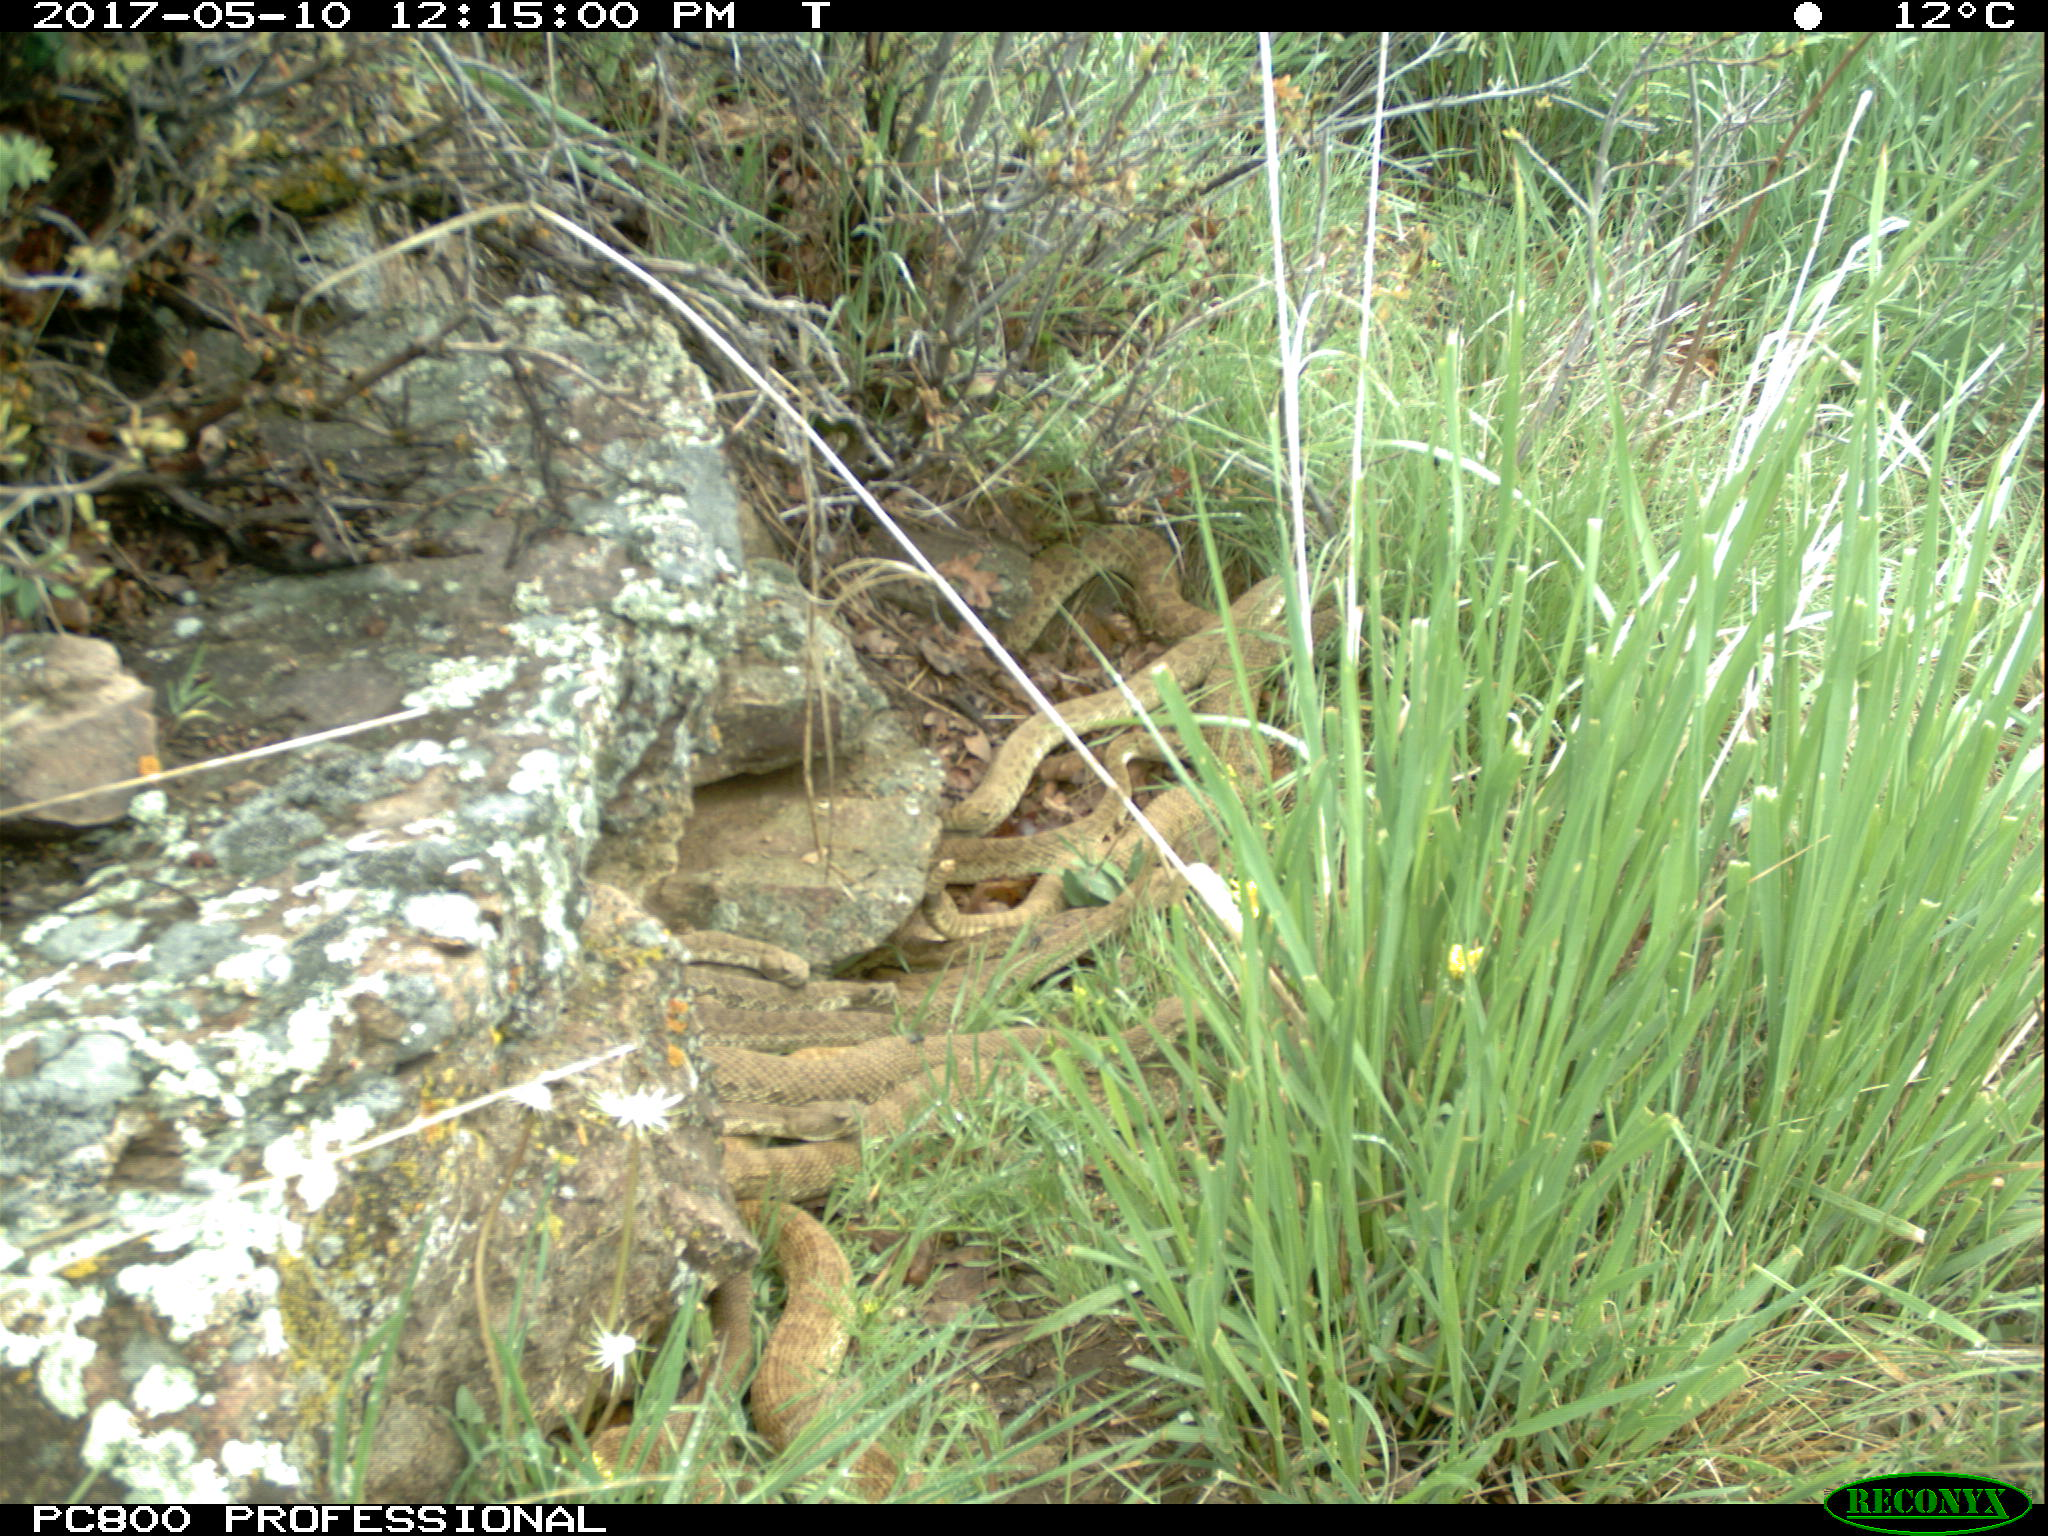snake: (719, 1115, 913, 1492), (671, 925, 1048, 1117), (922, 639, 1276, 787), (1009, 523, 1317, 649), (914, 794, 1201, 913), (863, 936, 1163, 1005), (582, 1409, 747, 1513)
